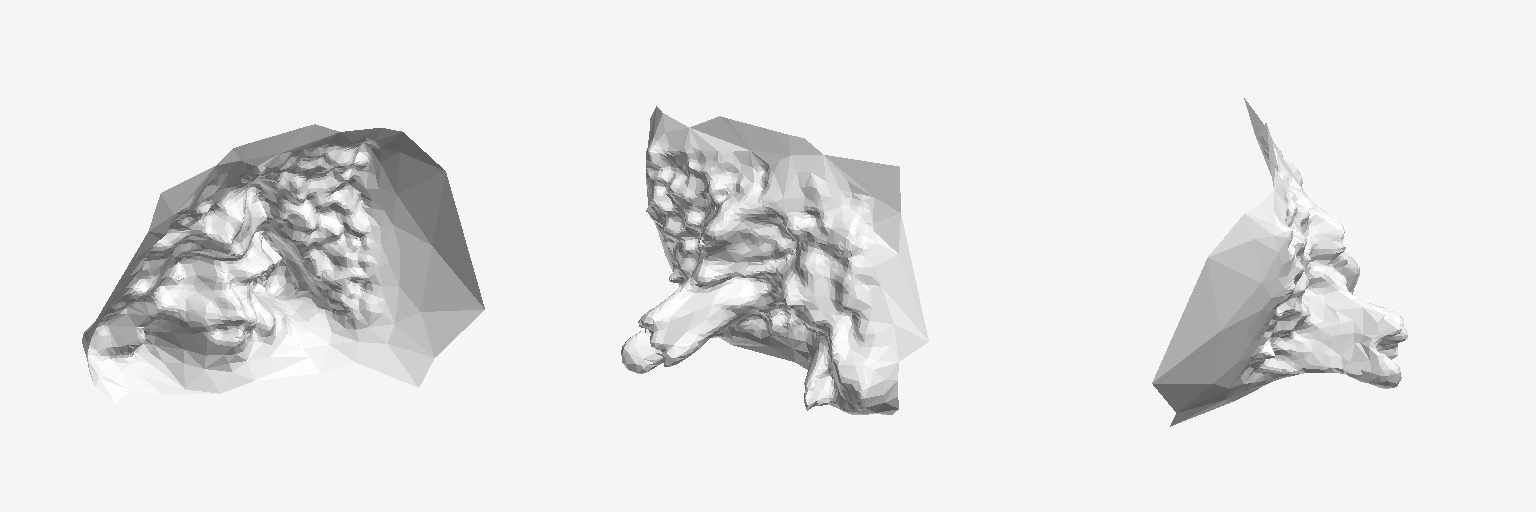
File: mainzel.obj
3 views of the same model, side by side, from view 1: azimuth 30°, elevation 25°; view 2: azimuth 150°, elevation 25°; view 3: azimuth 270°, elevation 25° (orthographic).
Bounding box in the file's own units: 109 × 77.39 × 73.19.